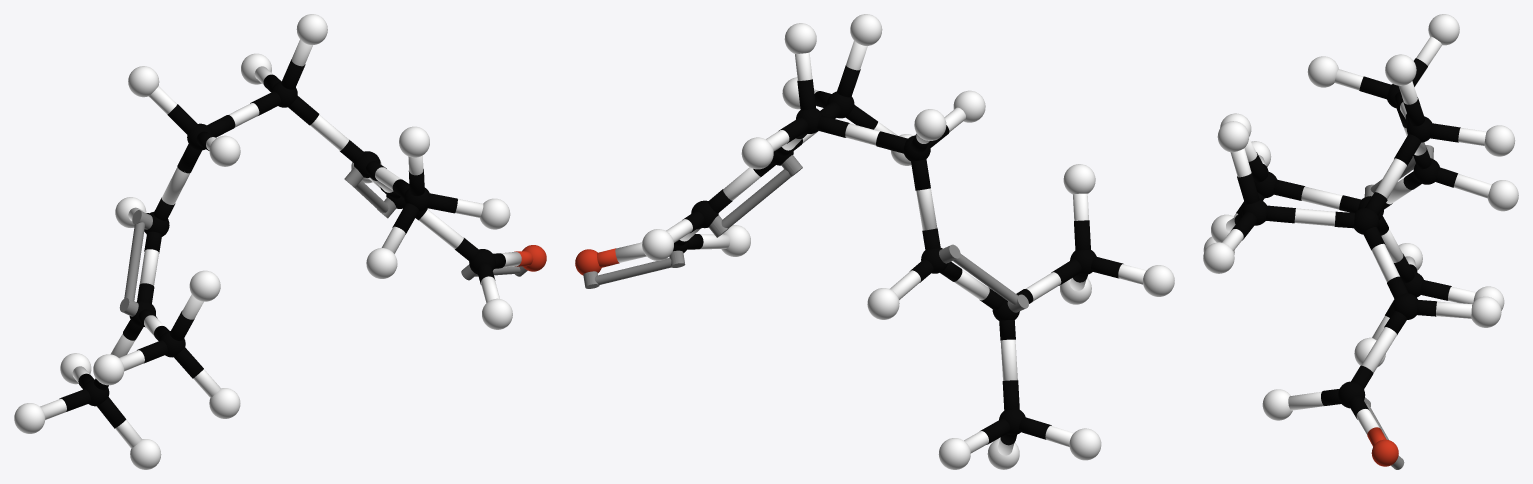
File: Citral.dae
3 renders of one model, left to right at view 1: azimuth 30°, elevation 25°; view 2: azimuth 150°, elevation 25°; view 3: azimuth 270°, elevation 25°, orthographic. The views are drawn at different scales.
Parts seen in each view (by area): view 1: Liaison_double, Liaison_double_001, Hydrogène_008, Hydrogène_011, Hydrogène_012, Hydrogène_6, Hydrogène_005, Hydrogène_014, Hydrogène_009, Hydrogène_015, Hydrogène_010, Hydrogène_000 (+7 smaller); view 2: Liaison_double_001, Liaison_double, Liaison_double_002, Hydrogène_004, Hydrogène_009, Hydrogène_010, Hydrogène_003, Hydrogène_013, Hydrogène_014, Hydrogène_012, Hydrogène_002, Hydrogène_005 (+6 smaller); view 3: Hydrogène_001, Hydrogène_005, Hydrogène_014, Hydrogène_002, Hydrogène_003, Hydrogène_004, Hydrogène_008, Hydrogène_010, Hydrogène_6, LiaisonSimple_028, LiaisonSimple_032, LiaisonSimple_045 (+34 smaller).
Part boxes in pixels (left/top/right/bottom): Liaison_double: left=119, top=210, right=152, bottom=316; Liaison_double_001: left=344, top=167, right=396, bottom=218; Hydrogène_008: left=209, top=135, right=240, bottom=166; Hydrogène_011: left=189, top=270, right=220, bottom=301; Hydrogène_012: left=93, top=354, right=124, bottom=385; Hydrogène_6: left=482, top=298, right=512, bottom=329; Hydrogène_005: left=296, top=14, right=327, bottom=44; Hydrogène_014: left=399, top=126, right=429, bottom=157; Hydrogène_009: left=14, top=403, right=45, bottom=433; Hydrogène_015: left=366, top=248, right=397, bottom=278; Hydrogène_010: left=128, top=66, right=159, bottom=97; Hydrogène_000: left=209, top=388, right=240, bottom=418; Liaison_double_001: left=709, top=155, right=802, bottom=237; Liaison_double: left=939, top=244, right=1028, bottom=312; Liaison_double_002: left=583, top=250, right=685, bottom=288; Hydrogène_004: left=741, top=137, right=773, bottom=169; Hydrogène_009: left=1069, top=428, right=1101, bottom=460; Hydrogène_010: left=914, top=109, right=946, bottom=140; Hydrogène_003: left=867, top=288, right=899, bottom=319; Hydrogène_013: left=938, top=438, right=970, bottom=469; Hydrogène_014: left=850, top=14, right=882, bottom=45; Hydrogène_012: left=1142, top=265, right=1174, bottom=296; Hydrogène_002: left=642, top=229, right=673, bottom=260; Hydrogène_005: left=784, top=23, right=816, bottom=53; Hydrogène_001: left=1203, top=242, right=1234, bottom=273; Hydrogène_005: left=1385, top=54, right=1416, bottom=85; Hydrogène_014: left=1217, top=121, right=1249, bottom=152; Hydrogène_002: left=1471, top=296, right=1501, bottom=327; Hydrogène_003: left=1487, top=180, right=1518, bottom=211; Hydrogène_004: left=1484, top=125, right=1515, bottom=156; Hydrogène_008: left=1307, top=56, right=1338, bottom=87; Hydrogène_010: left=1428, top=14, right=1459, bottom=45; Hydrogène_6: left=1262, top=389, right=1292, bottom=420; LiaisonSimple_028: left=1361, top=327, right=1396, bottom=373; LiaisonSimple_032: left=1294, top=208, right=1335, bottom=226; LiaisonSimple_045: left=1301, top=186, right=1342, bottom=209.
Size of the model in its own units: 8.24 by 4.31 by 6.05.
